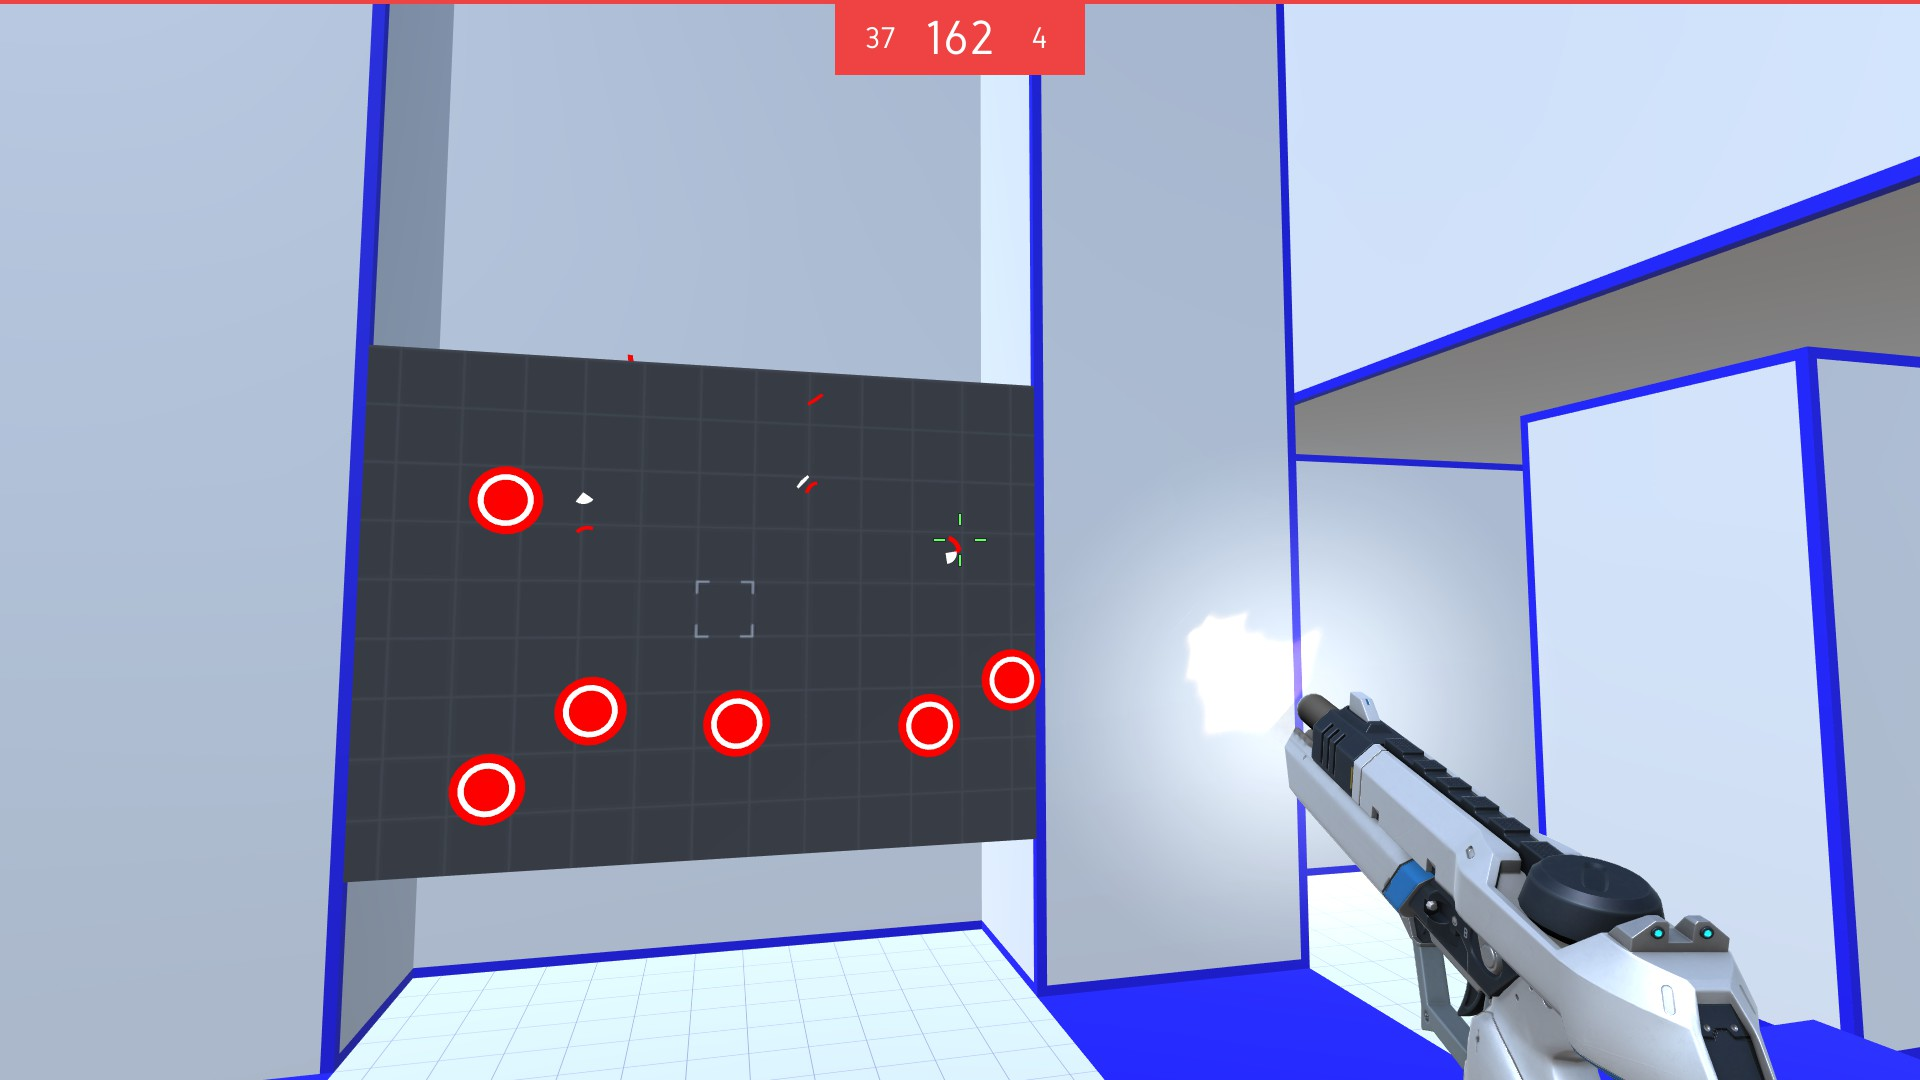target: (442, 752, 529, 829), (467, 462, 549, 537), (553, 676, 632, 750), (699, 688, 771, 760), (976, 645, 1046, 717), (891, 692, 963, 760)
